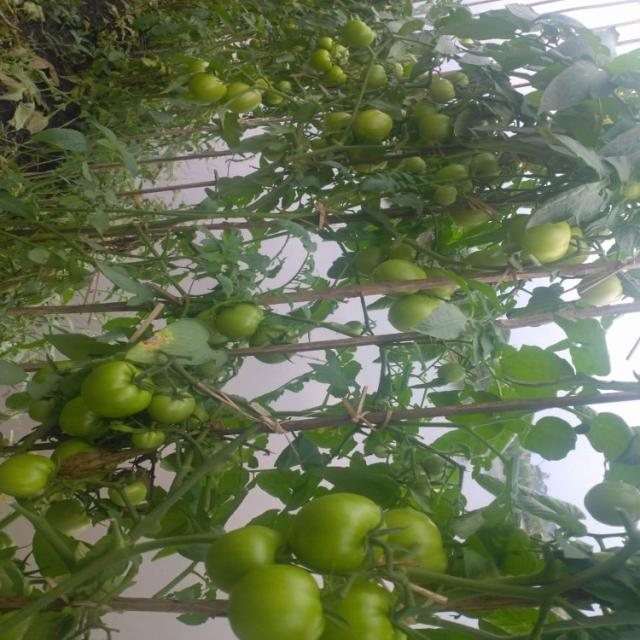tomato: (291, 486, 387, 577), (224, 566, 327, 640), (378, 500, 458, 586), (204, 525, 301, 587), (317, 577, 412, 640), (87, 355, 153, 425), (512, 201, 580, 266), (1, 444, 55, 505), (157, 377, 214, 434), (363, 249, 426, 296), (393, 292, 444, 341), (575, 270, 628, 312), (223, 299, 268, 343), (59, 398, 107, 437), (192, 63, 232, 109), (358, 106, 401, 147), (115, 427, 170, 456), (232, 78, 273, 115), (426, 108, 470, 141), (342, 10, 372, 45), (300, 51, 337, 76), (472, 152, 496, 185), (430, 188, 461, 213), (433, 77, 464, 102), (363, 58, 391, 85), (442, 171, 473, 195), (189, 50, 218, 75), (319, 31, 347, 54), (331, 48, 357, 69), (332, 70, 352, 85)
